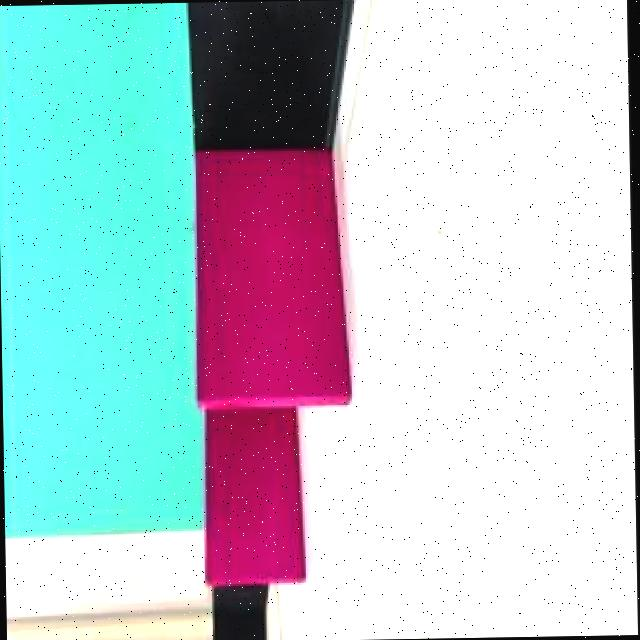xparking: (191, 154, 341, 405), (200, 412, 298, 584)
